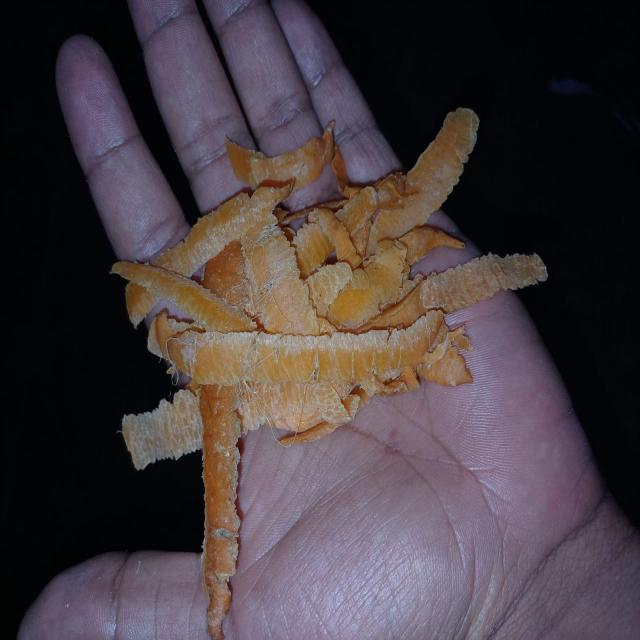organic: (110, 104, 549, 463)
